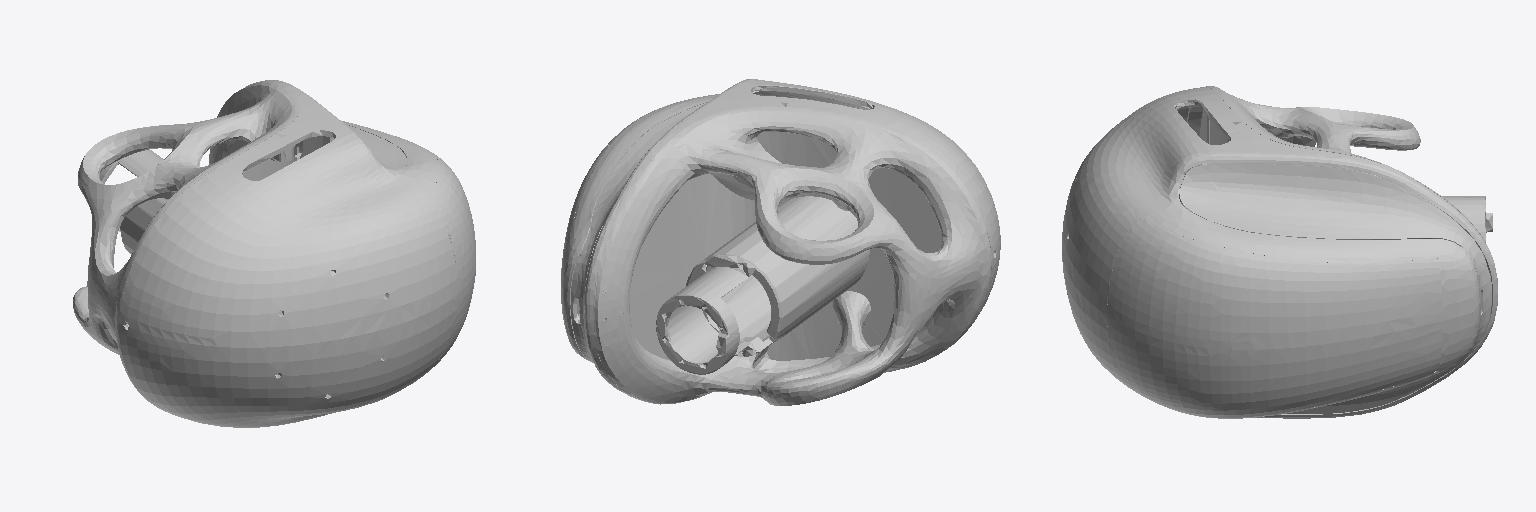
The model's file is head_yaw_link.obj.
The picture shows the model from 3 angles: view 1: azimuth 30°, elevation 25°; view 2: azimuth 150°, elevation 25°; view 3: azimuth 270°, elevation 25°; orthographic projection.
Visible parts, largest first — view 1: head_yaw_link; view 2: head_yaw_link; view 3: head_yaw_link.
Part boxes in pixels (x1,y1,x2,y2): head_yaw_link: (73,80,475,427); head_yaw_link: (561,79,1000,405); head_yaw_link: (1062,86,1497,418).
Bounding box in the file's own units: 0.2133 × 0.1529 × 0.2236.